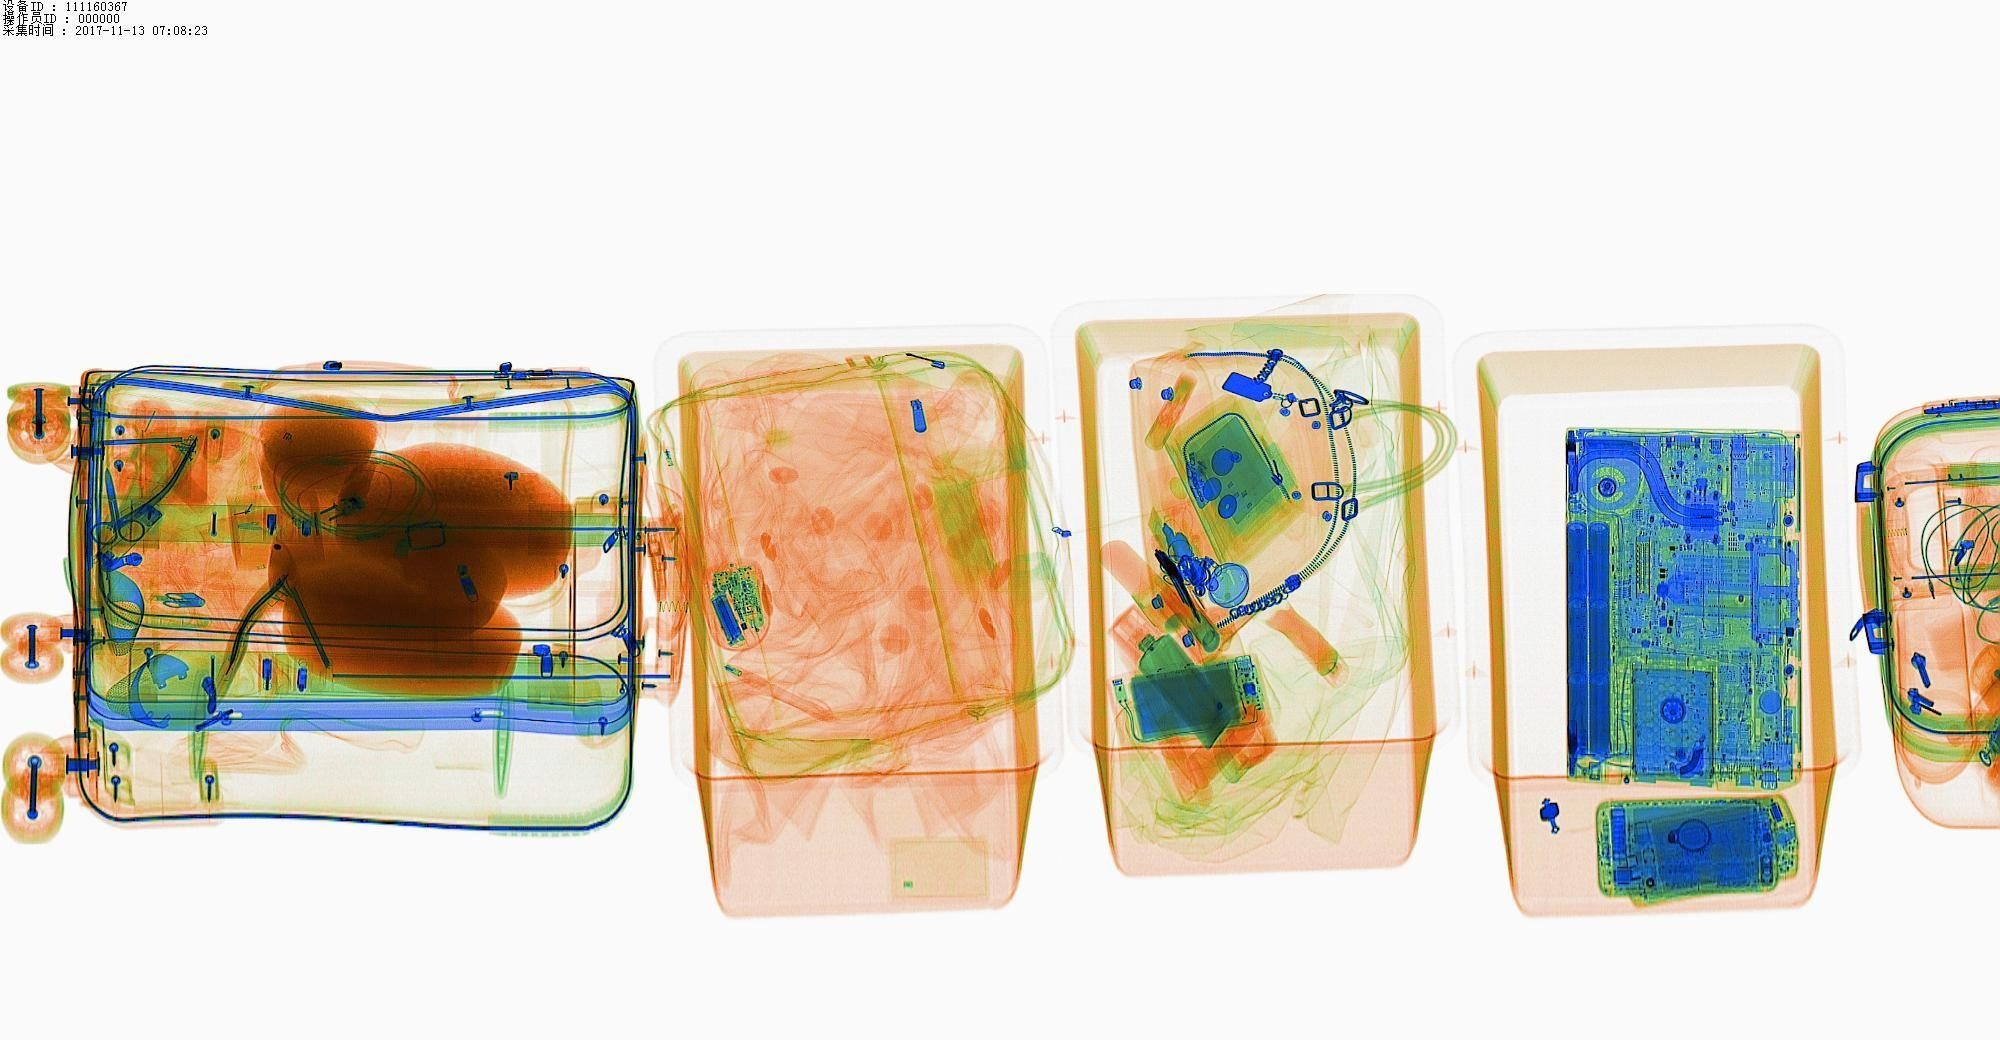coreless: (1118, 679, 1261, 730)
